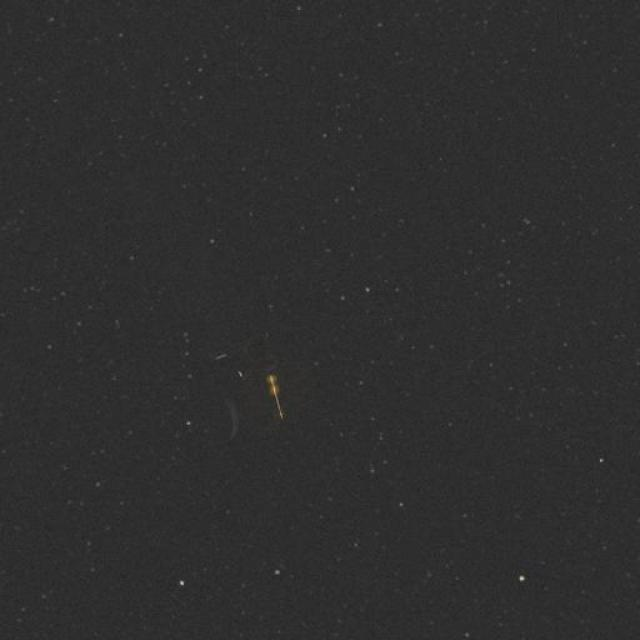earth_observation_sat_1: (168, 293, 340, 459)
